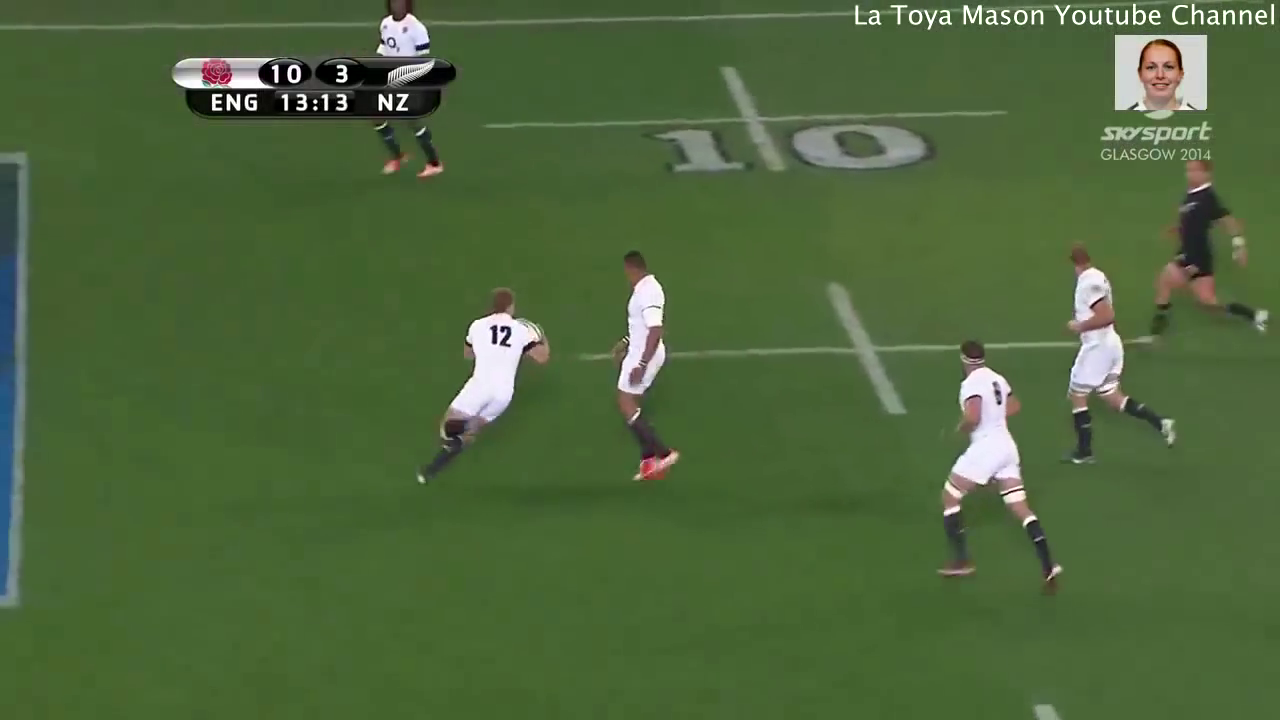10_metre: (579, 278, 1179, 428), (473, 55, 1017, 188)
ball: (509, 310, 549, 348)
player: (926, 332, 1078, 615), (409, 264, 562, 500), (1129, 149, 1280, 352), (1055, 239, 1183, 472), (605, 239, 689, 486), (367, 1, 452, 187)
